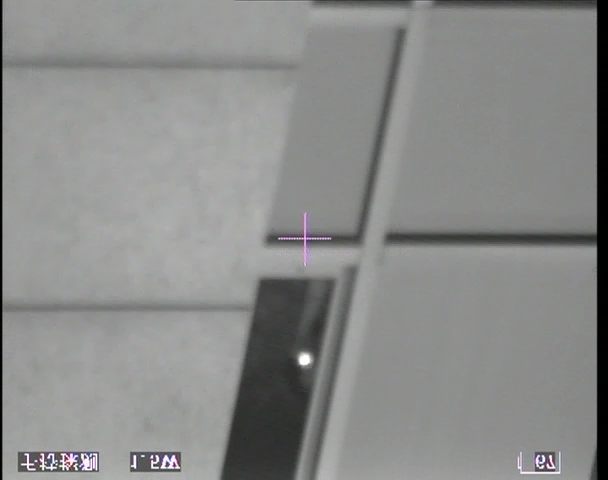my: (296, 351, 312, 366)
